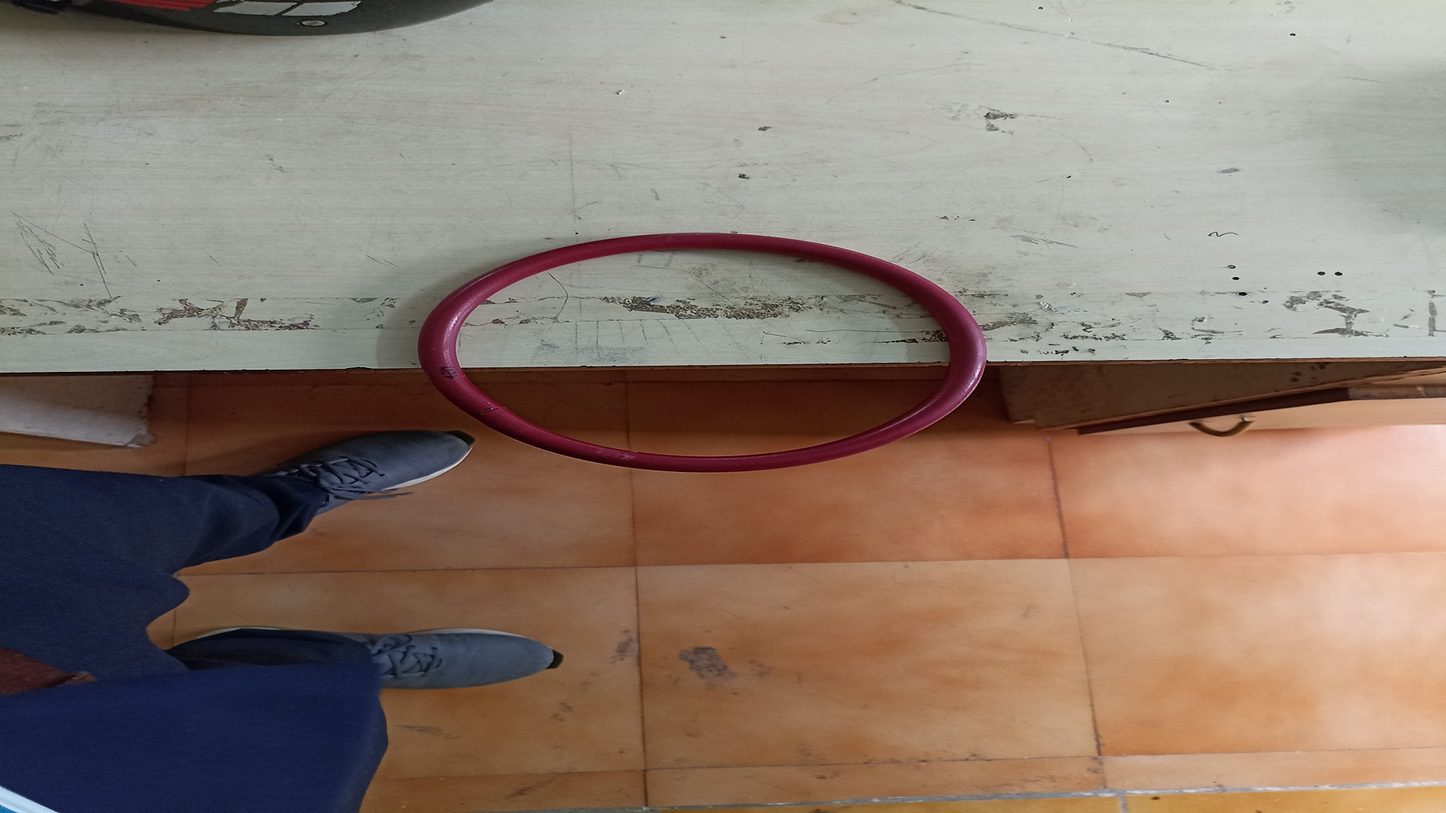Red ring: (419, 230, 987, 477)
